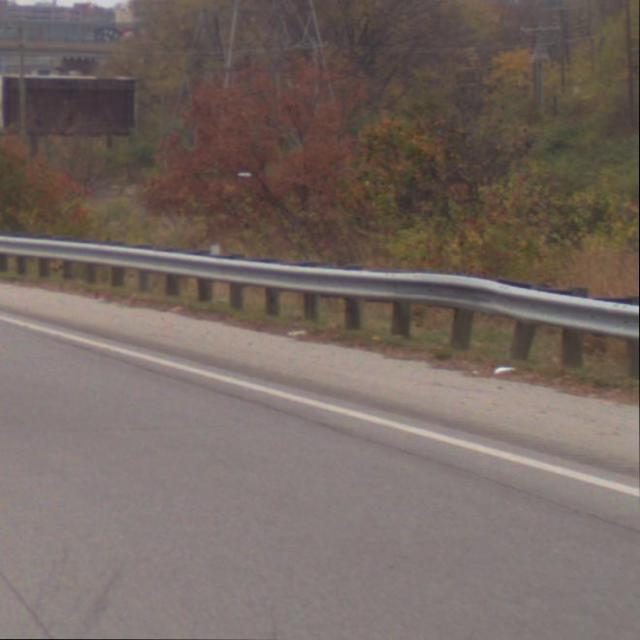Guard rail: (1, 228, 640, 382)
